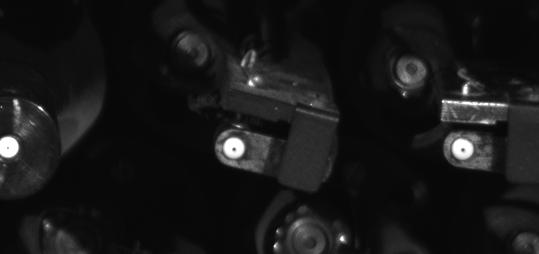fiber: (446, 134, 481, 163), (221, 134, 248, 163), (1, 133, 22, 162)
